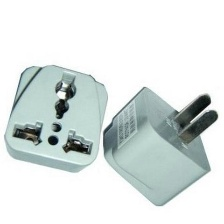three_eye_plug: (99, 80, 222, 209), (2, 61, 110, 177)
